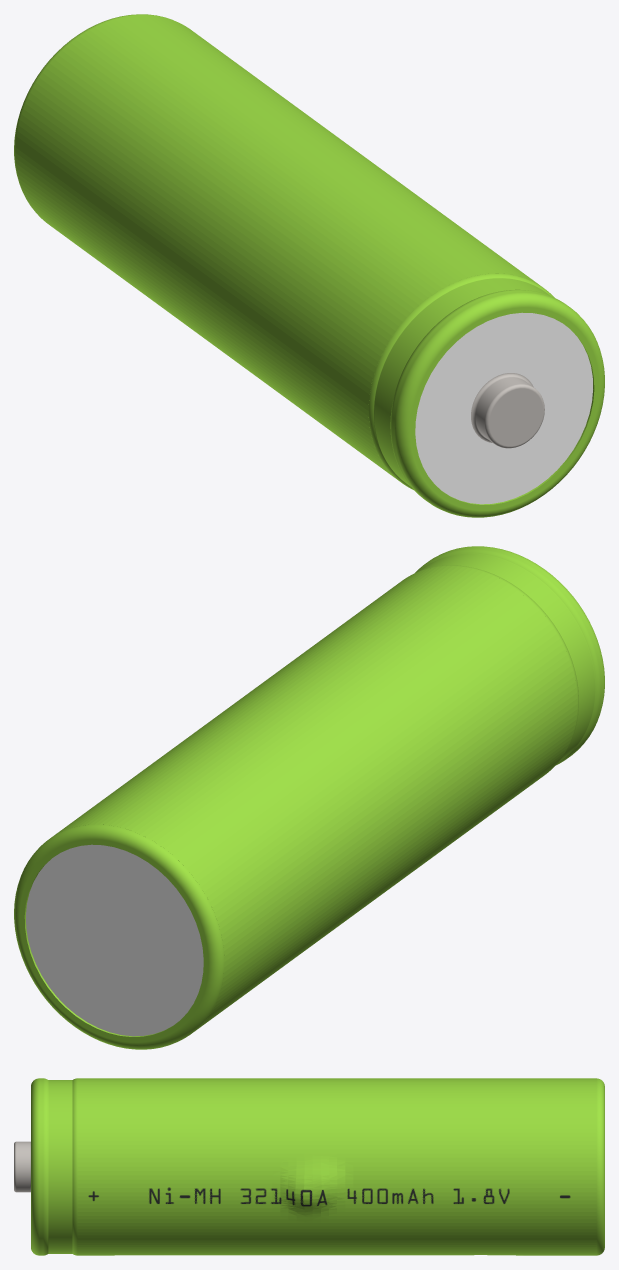
File: defect_4.glb
3 renders of one model, top to bottom at view 1: azimuth 30°, elevation 25°; view 2: azimuth 150°, elevation 25°; view 3: azimuth 270°, elevation 25°, orthographic. The views are drawn at different scales.
Parts seen in each view (by area): view 1: Cylinder, Cell_Top; view 2: Cylinder, Cell_bottom, Cell_Top; view 3: Cylinder, Cell_Top, Cell_bottom.
Boxes of the visible parts, x1,y1,x2,y2 form: Cylinder: (15, 15, 550, 480); Cell_Top: (368, 273, 604, 517); Cylinder: (41, 566, 577, 1031); Cell_bottom: (14, 824, 224, 1049); Cell_Top: (415, 546, 604, 765); Cylinder: (77, 1078, 596, 1255); Cell_Top: (14, 1078, 77, 1255); Cell_bottom: (596, 1078, 604, 1255).
Bounding box in the file's own units: 0.0218 × 0.021 × 0.07.
10 materials, 1 textured.
